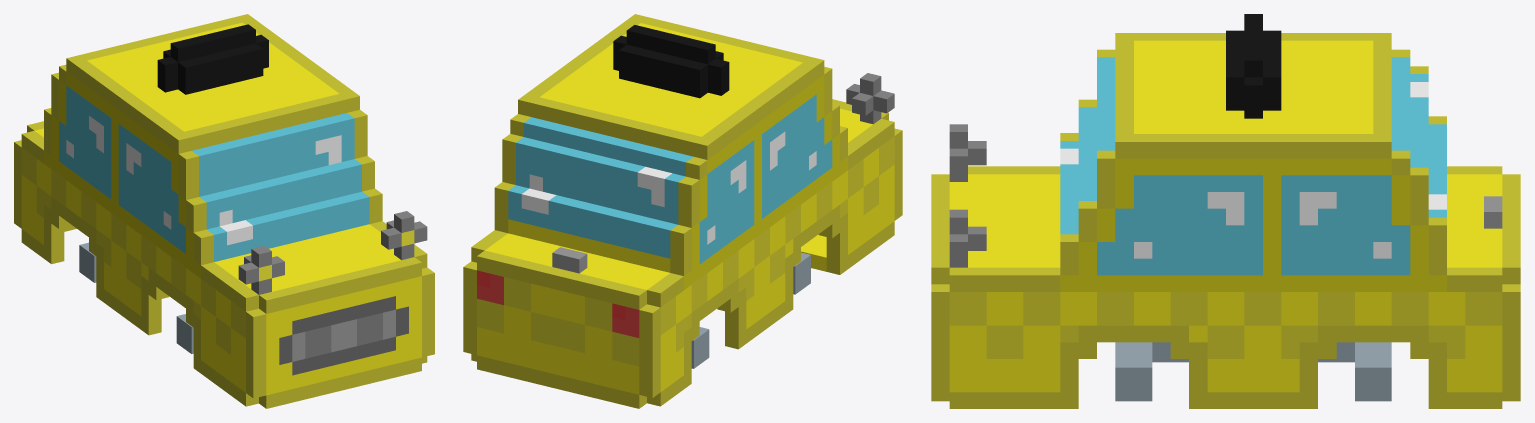
The model's file is taxi.gltf.
3 views of the same model, side by side, from view 1: azimuth 30°, elevation 25°; view 2: azimuth 150°, elevation 25°; view 3: azimuth 270°, elevation 25° (orthographic). The views are drawn at different scales.
Visible parts, largest first — view 1: Layer.1; view 2: Layer.1; view 3: Layer.1.
Part boxes in pixels (x1,y1,x2,y2): Layer.1: [14, 14, 434, 408]; Layer.1: [463, 14, 902, 408]; Layer.1: [931, 14, 1520, 408].
Bounding box in the file's own units: 14 × 19 × 32.
Materials: 1 (1 with a texture image).
